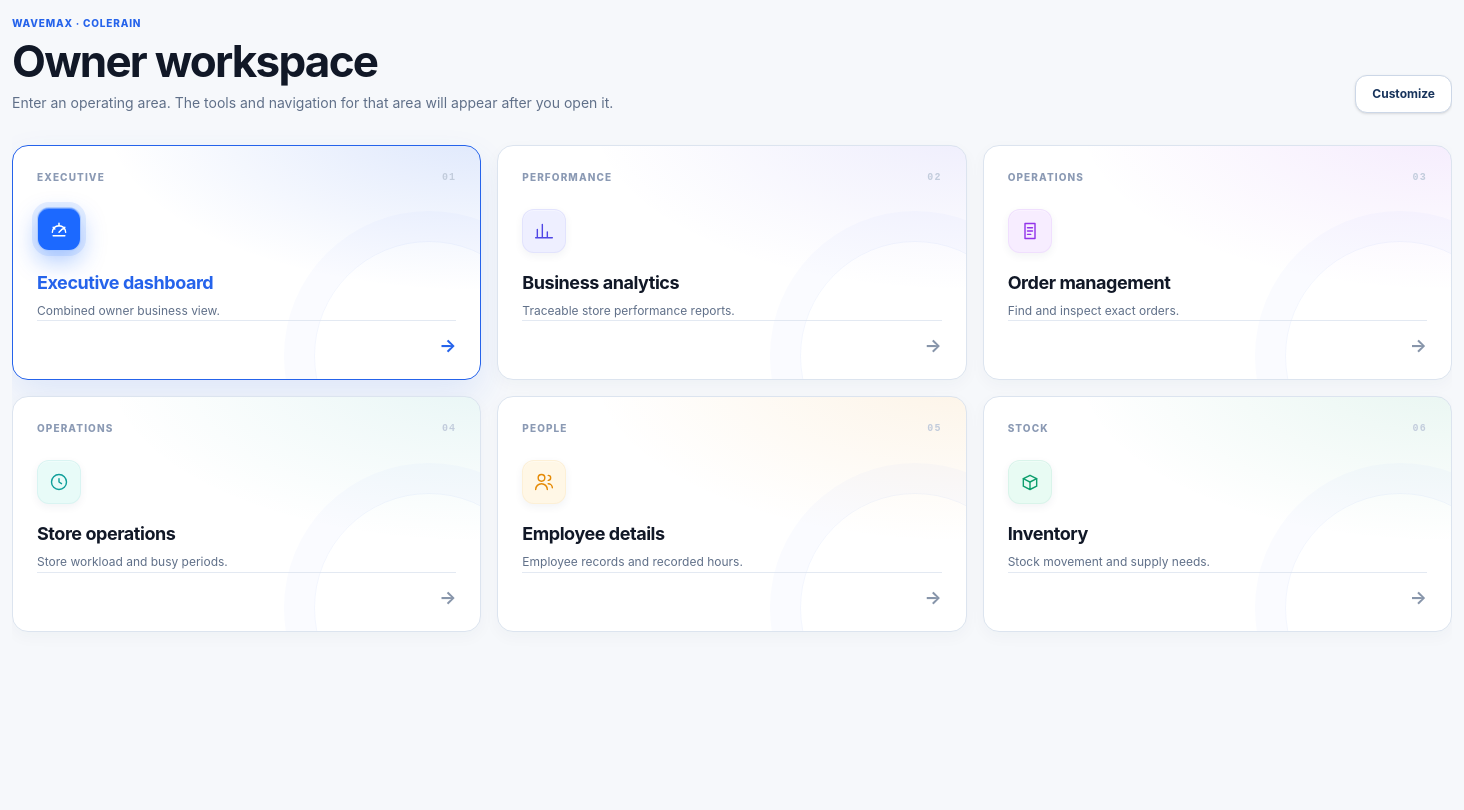
Test case: command center customization › reveals the controls and stops tiles navigating while customizing
This screenshot has width=1464, height=810.
Click the button "Customize" at [1404, 94], box [1355, 75, 1452, 113]
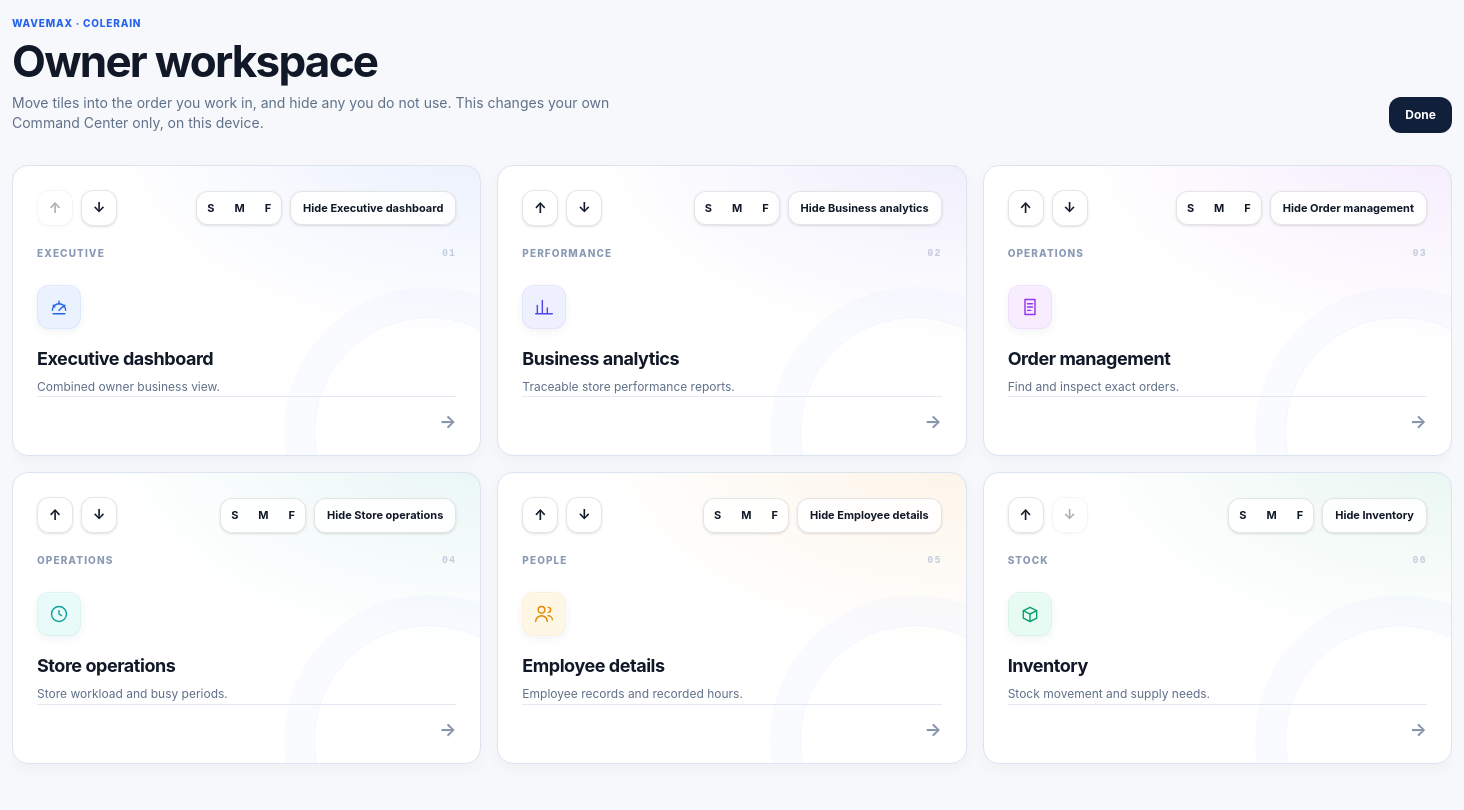
Expected: the button "Done" is shown, [1389, 97, 1452, 133]
Expected: the button "Hide Executive dashboard" is shown, [290, 191, 456, 225]
